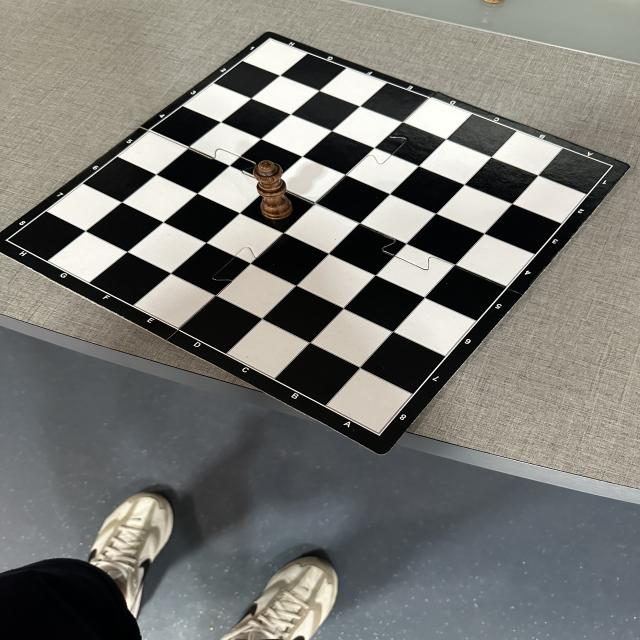Black-Queen: (252, 160, 294, 220)
